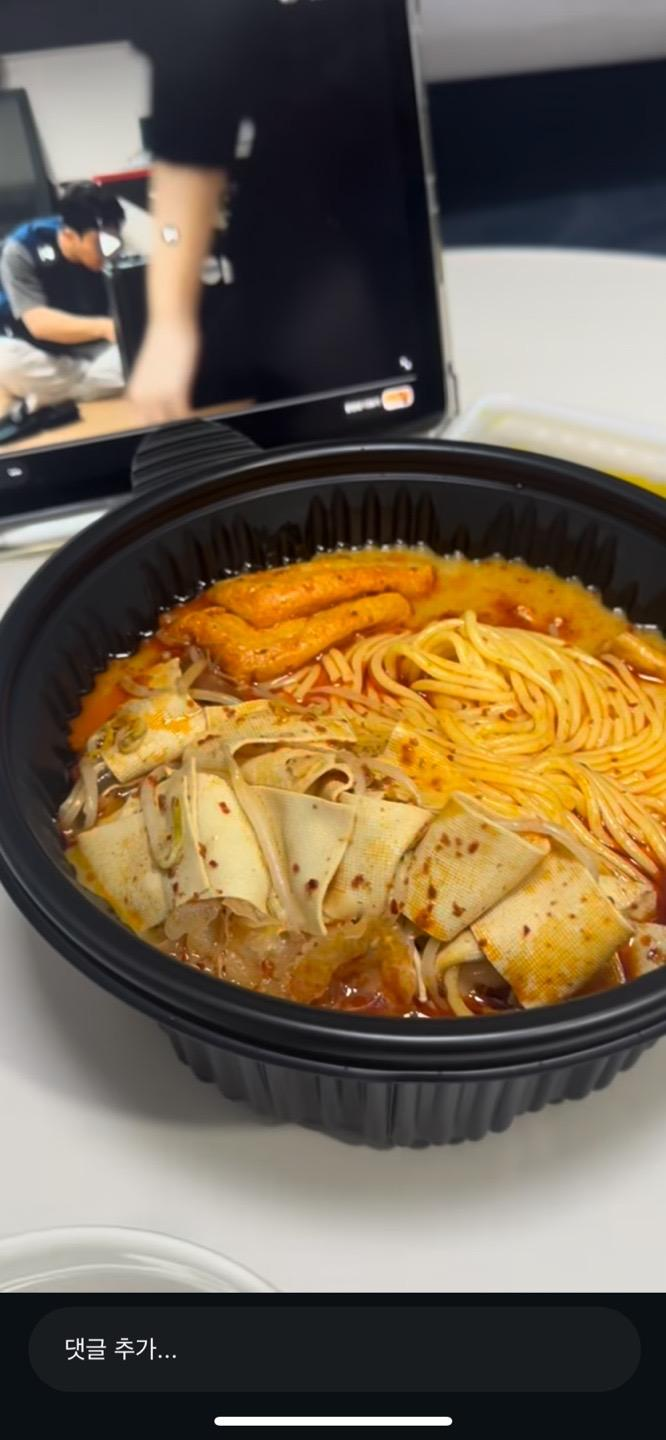Lunch Box: (0, 420, 665, 1147)
